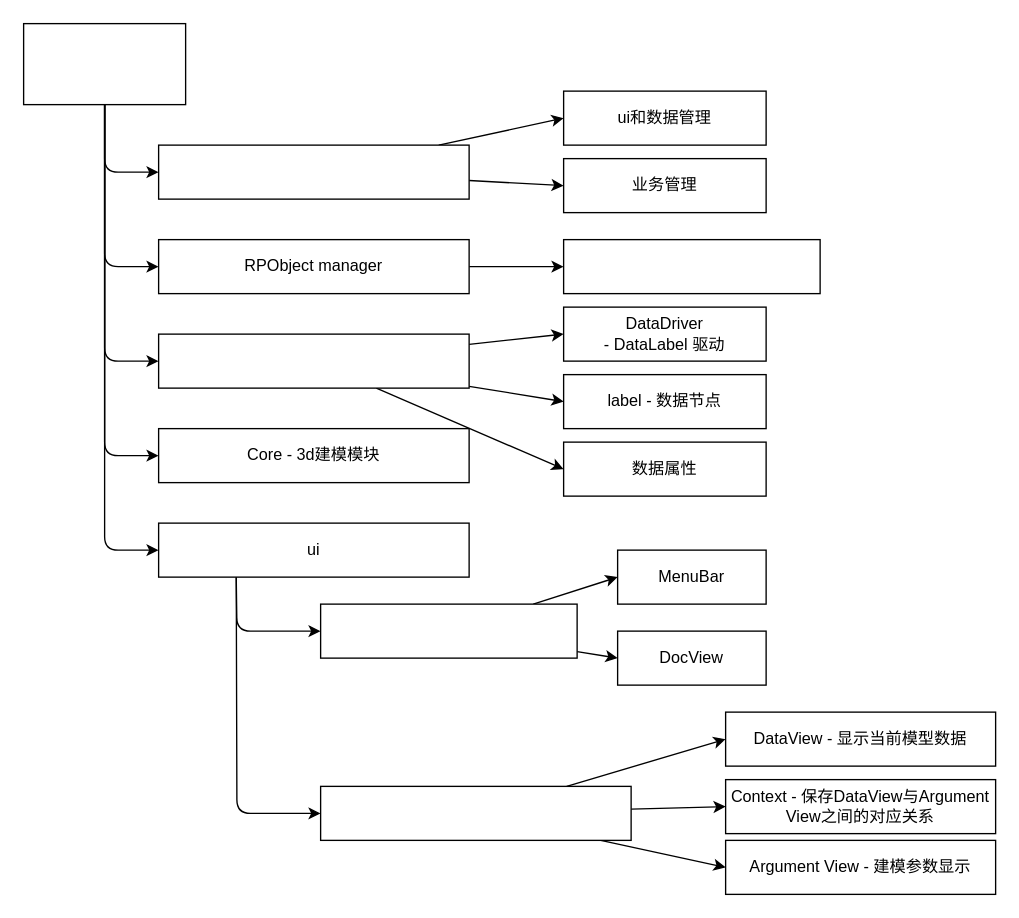
Some shapes in this 1019 by 918 pixel diagram are drawn without their labels. The shapes that lost their labels are listed below. From the top down, each one's centre as x and y in pixels, then its label:
At point 104,63: "RedPanda".
At point 313,171: "MainApplication 总控模块".
At point 691,266: "RDObject - datalabel相关信息管理".
At point 313,360: "RPAF - dcoument 与其子标签管理".
At point 448,630: "MainWindow".
At point 475,812: "[DataLabel]视图 - 当前节点的数据情况".
